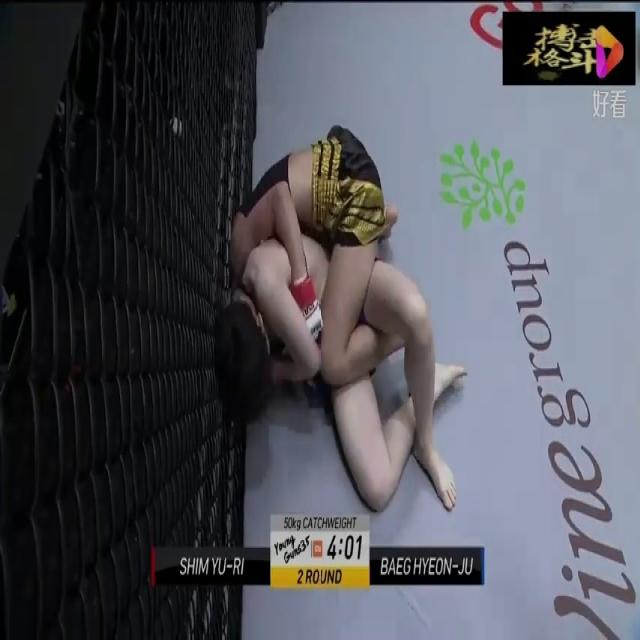fight: (216, 121, 464, 516)
